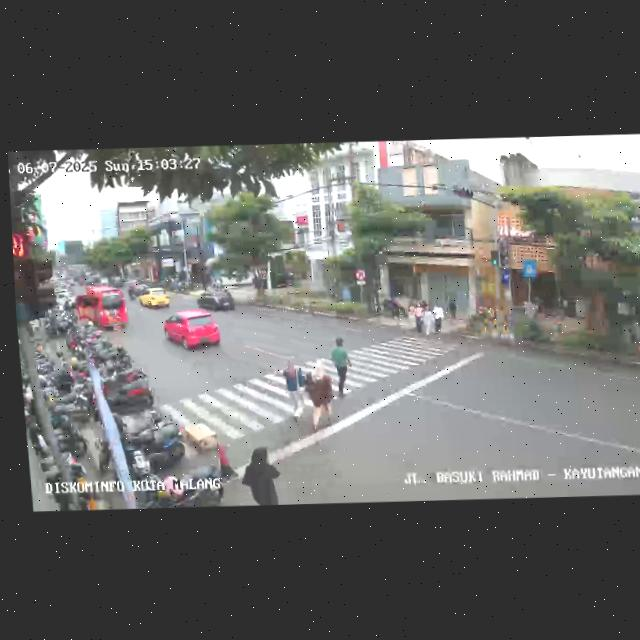car: (161, 309, 222, 354), (71, 286, 128, 333), (196, 287, 237, 314), (137, 287, 172, 312)
person: (238, 445, 286, 505), (304, 360, 334, 432), (328, 337, 353, 396), (281, 354, 303, 417), (431, 304, 446, 335), (421, 306, 434, 338), (414, 300, 425, 332), (406, 301, 416, 329)
